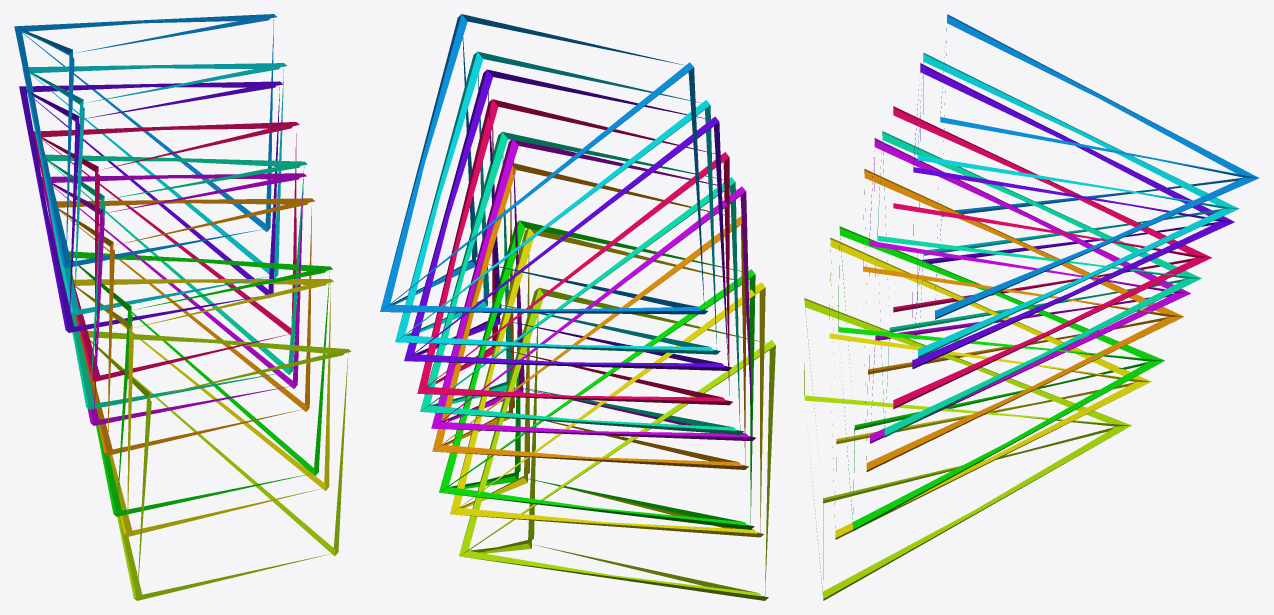
The model's file is glbscene_50_All_maskbFalse_maskwFalse_camTrue_skyFalse_predDepthmap_and_Camera_Branch.glb.
The picture shows the model from 3 angles, left to right: view 1: azimuth 30°, elevation 25°; view 2: azimuth 150°, elevation 25°; view 3: azimuth 270°, elevation 25°; orthographic projection. The views are drawn at different scales.
Parts seen in each view (by area): view 1: world; view 2: world; view 3: world.
Part boxes in pixels (left/top/right/bottom): world: left=14, top=14, right=351, bottom=600; world: left=380, top=14, right=775, bottom=600; world: left=804, top=14, right=1259, bottom=600.
Size of the model in its own units: 0.1119 by 0.2395 by 0.2004.
